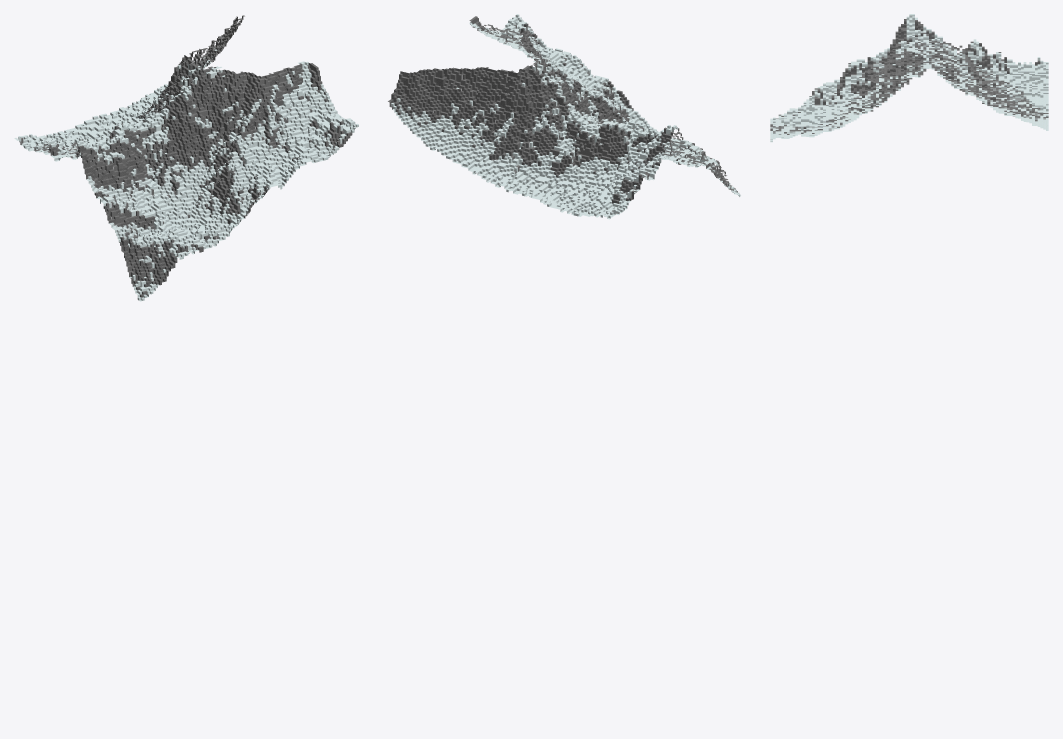
Rendered from chunk3800--400-lvl-1-transformed.glb.
The picture shows the model from 3 angles, left to right: view 1: azimuth 30°, elevation 25°; view 2: azimuth 150°, elevation 25°; view 3: azimuth 270°, elevation 25°; orthographic projection. The views are drawn at different scales.
Parts seen in each view (by area): view 1: Snow_Block, Cobblestone, Stone; view 2: Snow_Block, Cobblestone, Stone; view 3: Snow_Block, Stone, Cobblestone.
Part boxes in pixels (x1,y1,x2,y2): Snow_Block: (14, 47, 358, 301); Cobblestone: (33, 19, 352, 297); Stone: (19, 15, 350, 296); Snow_Block: (391, 14, 740, 219); Cobblestone: (389, 22, 737, 203); Stone: (388, 16, 735, 213); Snow_Block: (770, 14, 1048, 142); Stone: (770, 20, 1048, 132); Cobblestone: (770, 19, 1048, 134).
Bounding box in the file's own units: 100 × 251 × 100.
14 materials, 14 textured.
